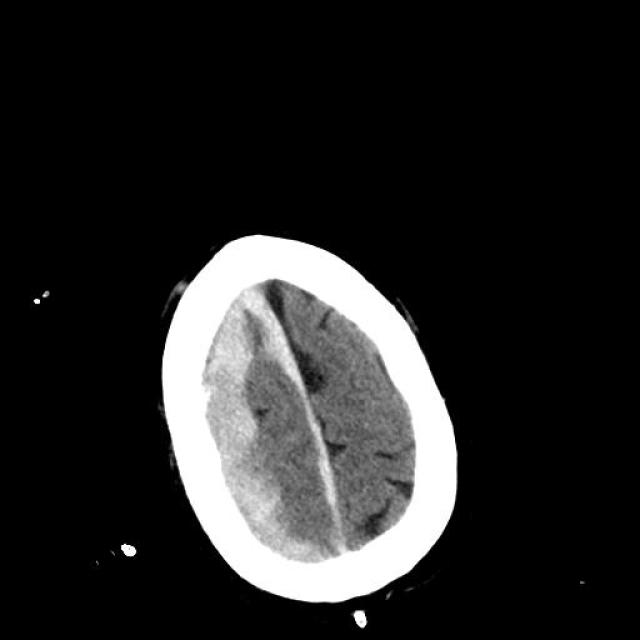Subdural: (172, 290, 338, 589)
